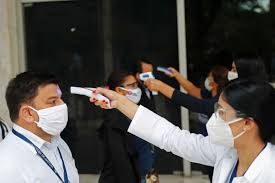mask: (204, 93, 245, 148), (31, 85, 72, 135), (123, 79, 145, 103), (204, 71, 218, 90), (226, 61, 240, 80)
